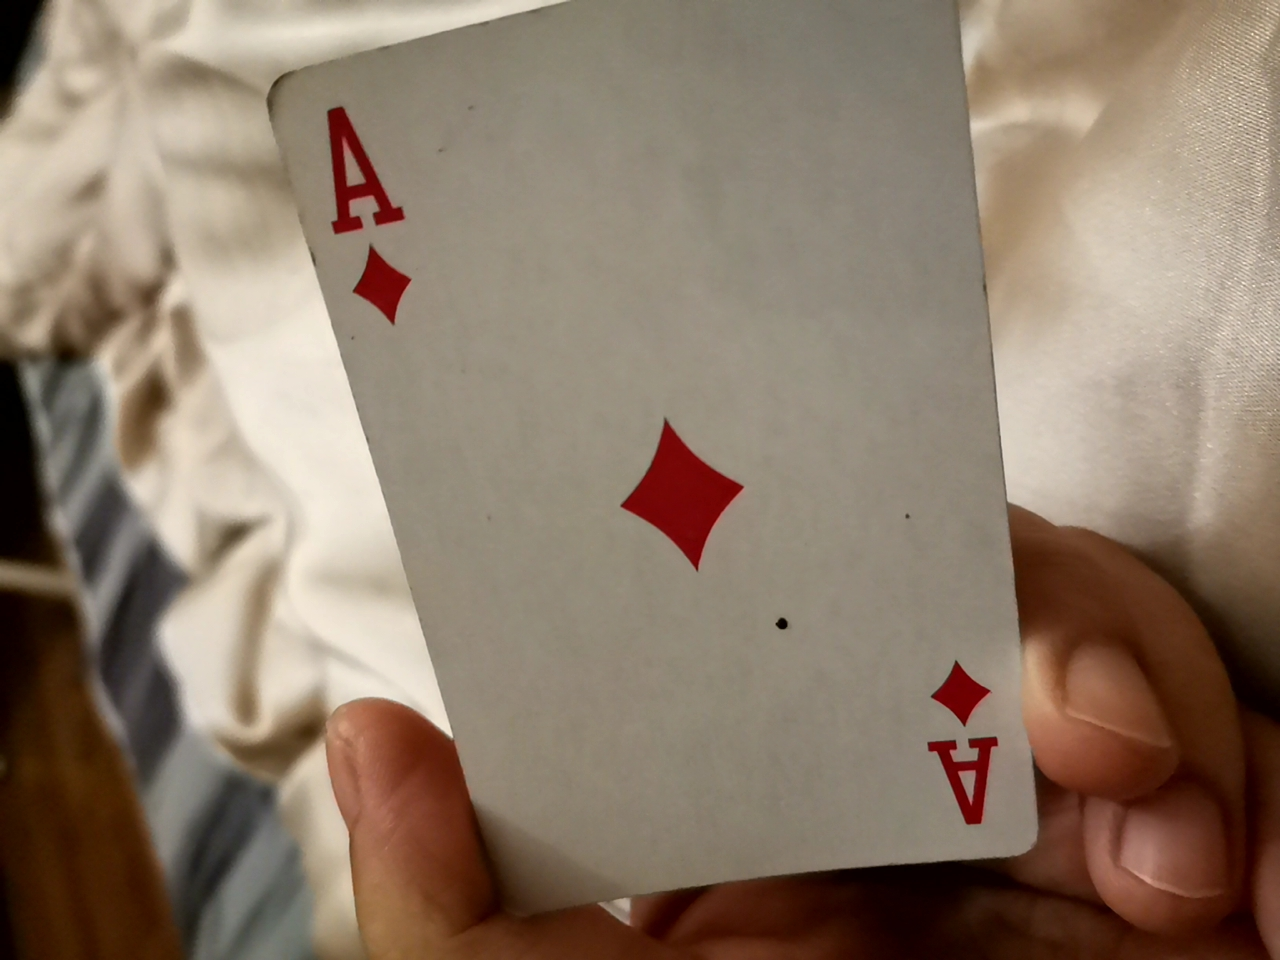fk a: (270, 18, 1065, 937)
